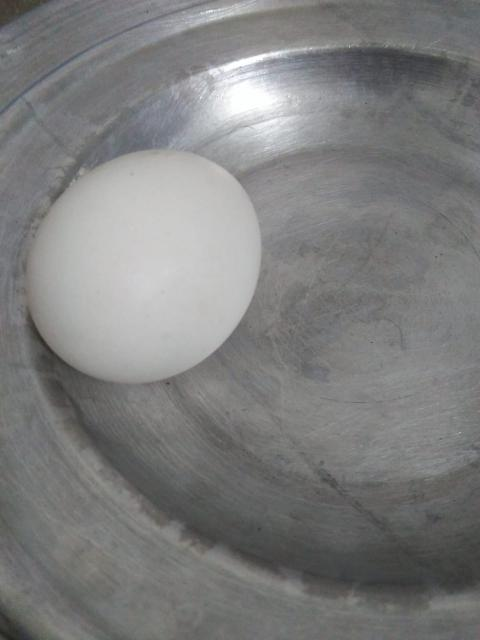Sano: (27, 148, 263, 387)
